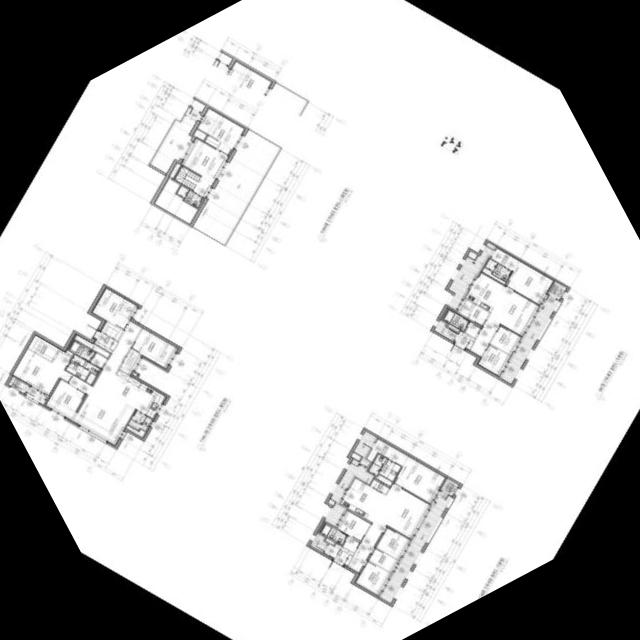background: (0, 0, 640, 640)
space_balconi: (380, 490, 451, 602), (500, 294, 559, 383), (323, 457, 374, 525), (447, 241, 494, 308), (353, 430, 375, 456), (127, 409, 151, 430), (433, 319, 456, 339), (25, 386, 47, 403), (309, 531, 326, 550)
space_bedroom: (12, 348, 71, 394), (393, 455, 445, 502), (197, 107, 244, 154), (505, 260, 552, 303), (91, 286, 137, 329), (131, 327, 177, 367), (45, 379, 85, 418), (355, 560, 390, 595), (376, 526, 409, 559), (336, 509, 370, 540), (478, 343, 510, 375), (489, 324, 520, 354)
space_dressroom: (365, 437, 408, 465), (27, 334, 58, 360), (490, 247, 519, 270)
space_front: (323, 542, 353, 565), (94, 330, 118, 351), (454, 329, 474, 349)
space_kitchen: (106, 369, 164, 417), (340, 477, 386, 521), (464, 272, 505, 312)
space_living_room: (68, 319, 141, 444), (347, 483, 429, 571), (469, 286, 538, 355), (181, 137, 227, 196)
space_other: (192, 129, 278, 243), (150, 107, 200, 172), (153, 177, 198, 223), (456, 298, 489, 325), (74, 333, 109, 357), (368, 547, 397, 572), (174, 165, 200, 189), (119, 348, 140, 374), (100, 320, 122, 339), (481, 266, 505, 283), (342, 535, 359, 551), (90, 351, 106, 368), (370, 478, 388, 493), (464, 321, 480, 337), (125, 424, 144, 436), (374, 473, 391, 485), (204, 134, 219, 147), (168, 161, 180, 177), (191, 99, 205, 111), (192, 127, 206, 139), (447, 323, 459, 331), (350, 451, 360, 460), (467, 250, 476, 258), (325, 537, 334, 544), (327, 498, 334, 504), (65, 349, 72, 354), (132, 371, 136, 375)
space_outdoor_room: (7, 375, 28, 392), (548, 280, 566, 299), (440, 477, 458, 495)
space_toilet: (65, 354, 99, 383), (368, 453, 400, 480), (176, 184, 202, 207), (319, 522, 346, 544), (442, 308, 469, 330), (485, 258, 511, 280), (68, 339, 94, 361)
